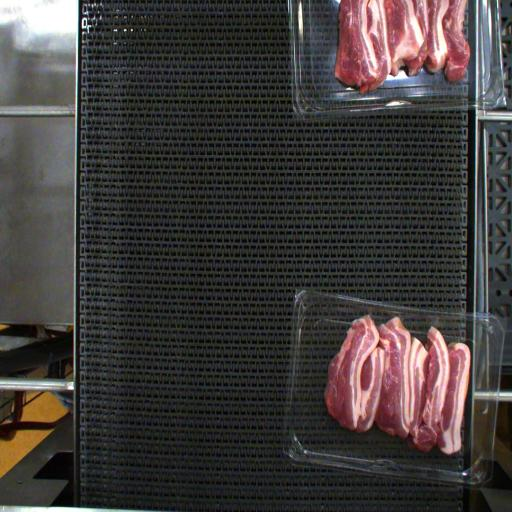packaging-error: (390, 308, 408, 326), (425, 314, 442, 332)
